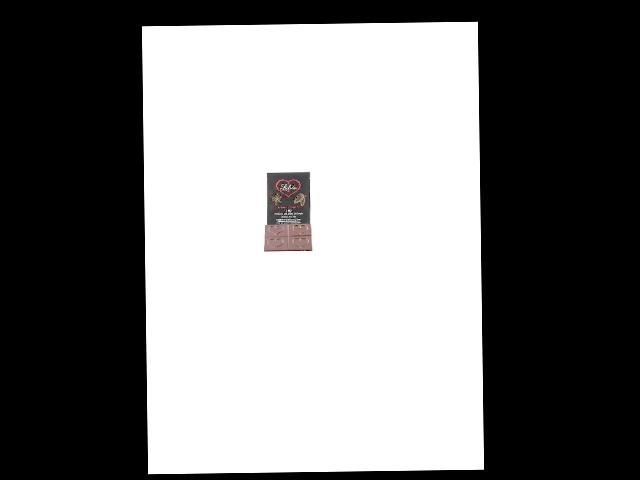chocolate: (259, 171, 313, 254)
